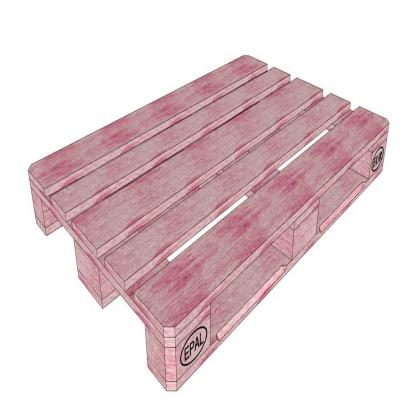BoxFace: (27, 48, 393, 398)
